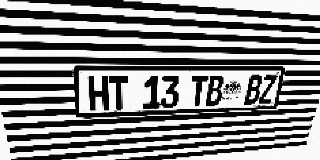1: (143, 76, 162, 109)
3: (161, 76, 180, 108)
B: (205, 75, 224, 106), (244, 75, 263, 105)
H: (88, 76, 109, 111)
T: (109, 76, 128, 110), (189, 75, 208, 107)
Z: (258, 75, 278, 104)
